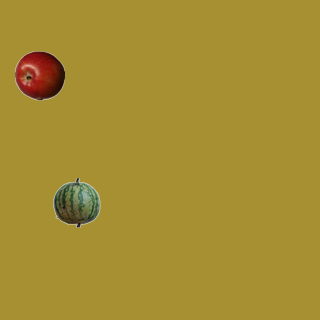Apple Braeburn: (14, 50, 64, 100)
Watermelon: (51, 177, 101, 227)
